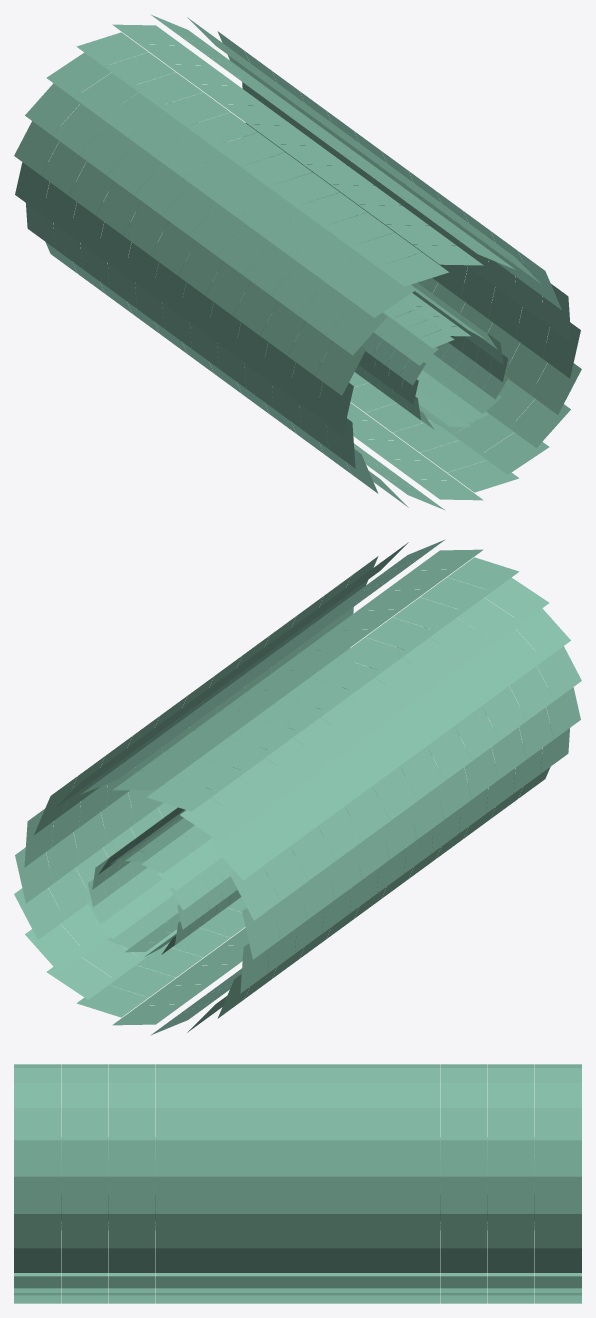
The model's file is InnerPixels_barrel.glb.
3 renders of one model, top to bottom at view 1: azimuth 30°, elevation 25°; view 2: azimuth 150°, elevation 25°; view 3: azimuth 270°, elevation 25°, orthographic. The views are drawn at different scales.
Parts seen in each view (by area): view 1: InnerPixels__Barrel_sensitives_l3.002, InnerPixels__Barrel_sensitives_l1.002; view 2: InnerPixels__Barrel_sensitives_l3.002, InnerPixels__Barrel_sensitives_l1.002; view 3: InnerPixels__Barrel_sensitives_l3.002, InnerPixels__Barrel_sensitives_l1.002.
Part boxes in pixels (x1,y1,x2,y2): InnerPixels__Barrel_sensitives_l3.002: [14, 14, 581, 510]; InnerPixels__Barrel_sensitives_l1.002: [89, 113, 508, 431]; InnerPixels__Barrel_sensitives_l3.002: [14, 539, 581, 1035]; InnerPixels__Barrel_sensitives_l1.002: [87, 638, 506, 956]; InnerPixels__Barrel_sensitives_l3.002: [14, 1064, 581, 1303]; InnerPixels__Barrel_sensitives_l1.002: [61, 1137, 534, 1230].
Bounding box in the file's own units: 0.2092 × 0.2072 × 0.4954.
